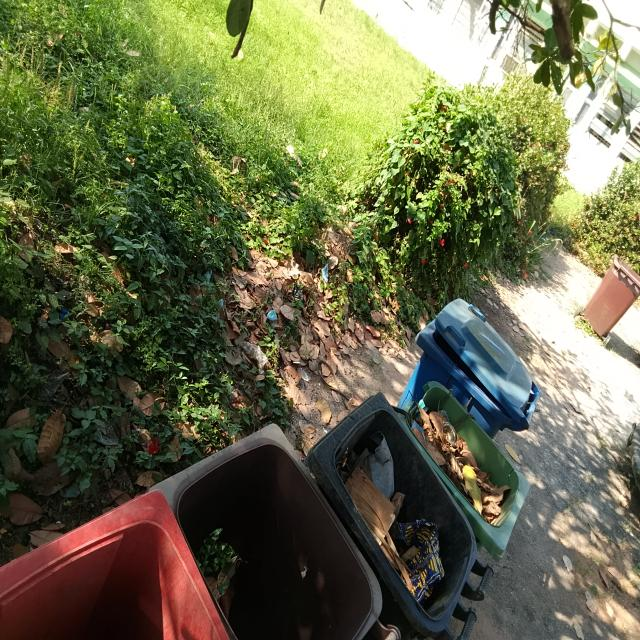full: (399, 367, 534, 546)
half-full: (157, 424, 389, 640), (308, 388, 475, 629), (0, 495, 220, 640)
